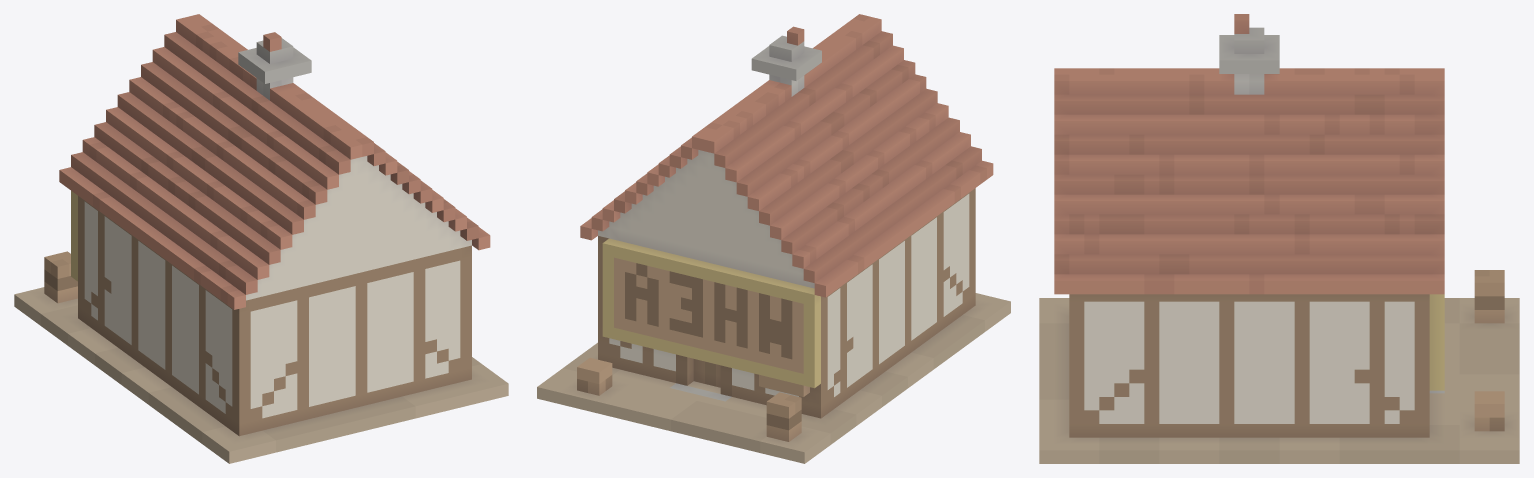
The model's file is wheat_farm.glb.
3 views of the same model, side by side, from view 1: azimuth 30°, elevation 25°; view 2: azimuth 150°, elevation 25°; view 3: azimuth 270°, elevation 25° (orthographic). The views are drawn at different scales.
Parts seen in each view (by area): view 1: wheat_farm; view 2: wheat_farm; view 3: wheat_farm.
Boxes of the visible parts, <box> form: wheat_farm: <box>14,14,508,463</box>; wheat_farm: <box>537,14,1010,463</box>; wheat_farm: <box>1039,14,1519,463</box>.
Size of the model in its own units: 3 by 3.38 by 4.
